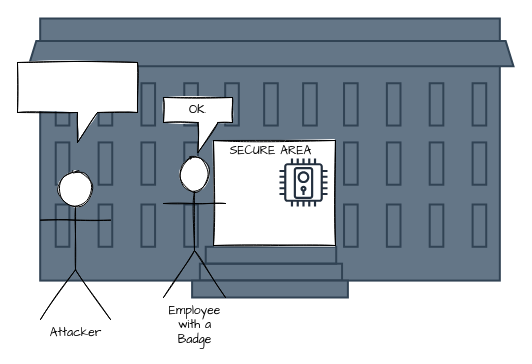
Some shapes in this 532 by 364 pixel diagram are drawn without their labels. The shapes that lost their labels are listed below. From the top down, each one's centre as x and y in pixels, then its label:
(77,102): Hey, could you hold that door open for me?
(303,182): Badge Reader
